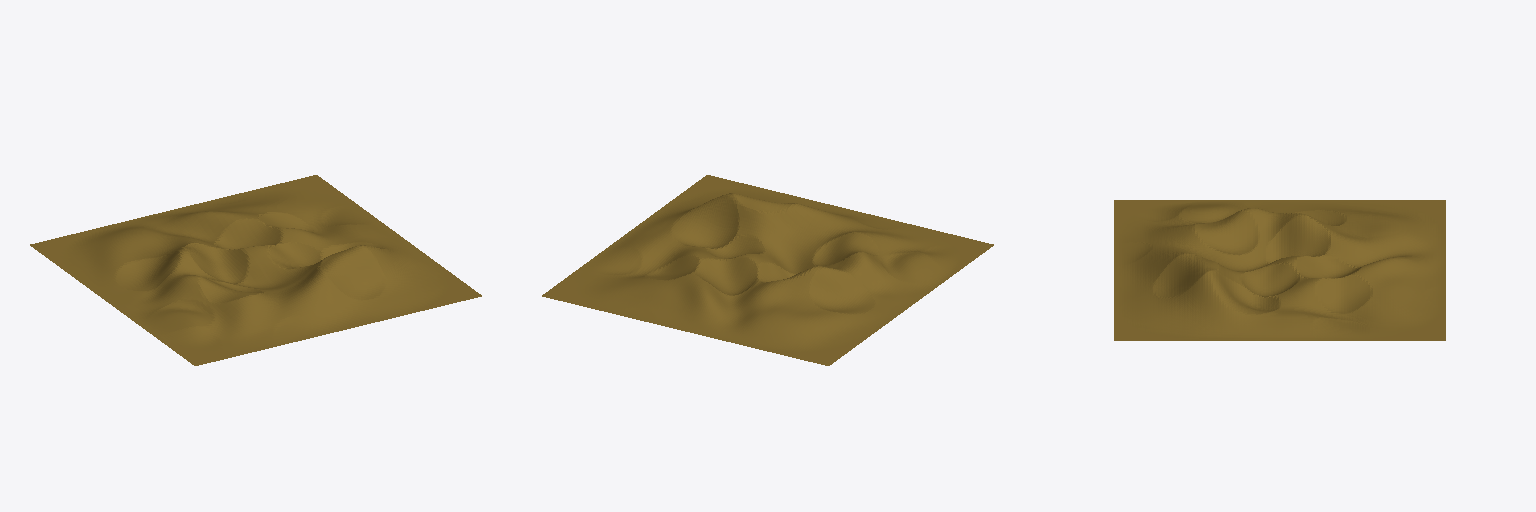
The model's file is Desierto.obj.
3 renders of one model, left to right at view 1: azimuth 30°, elevation 25°; view 2: azimuth 150°, elevation 25°; view 3: azimuth 270°, elevation 25°, orthographic.
Visible parts, largest first — view 1: Landscape.004; view 2: Landscape.004; view 3: Landscape.004.
Boxes of the visible parts, box(x1,y1,x2,y2) form: Landscape.004: box(30, 175, 481, 365); Landscape.004: box(542, 175, 993, 365); Landscape.004: box(1114, 200, 1445, 340).
Size of the model in its own units: 2 by 0.2513 by 2.